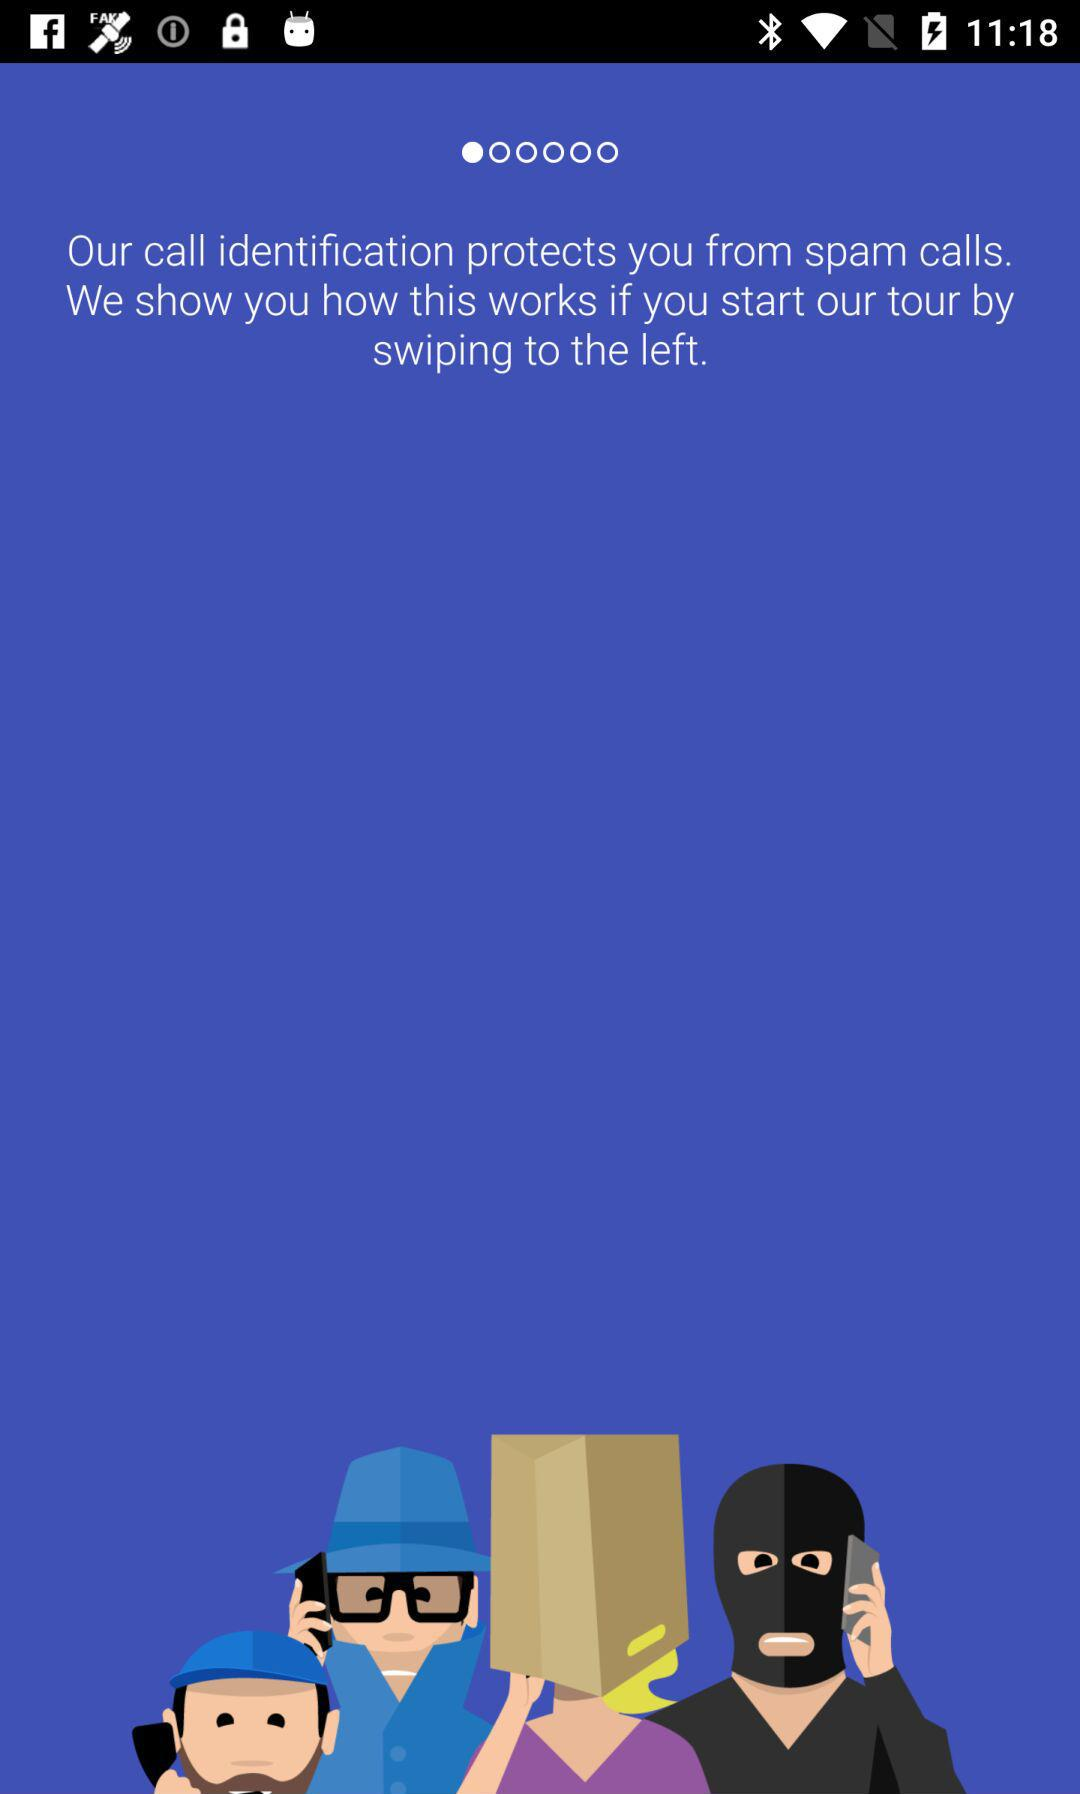Image: (131, 1433, 969, 1794)
PageIndicator: (461, 141, 620, 167)
Text: (65, 235, 1016, 375)
UpperTaskBar: (1, 1, 1080, 64)
